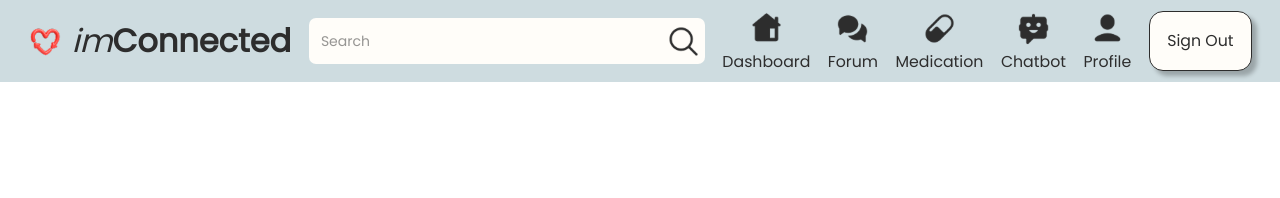
Test case: Header Component › should display search results when focused and typing
Focus and type
Type "test" into the field with placeholder "Search". click: (489, 41)
box: [312, 22, 666, 60]
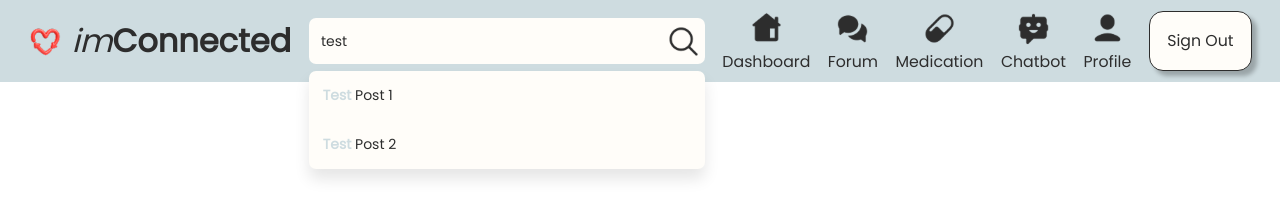
expect the element with class "searchDropdown" is shown: met, box [309, 71, 705, 169]
expect the number of elements with class "searchEntry" is 2: met, box [323, 85, 393, 105]; [323, 134, 396, 154]
expect the element with class "searchEntry" reads "Test Post 1": met, box [323, 85, 393, 105]
